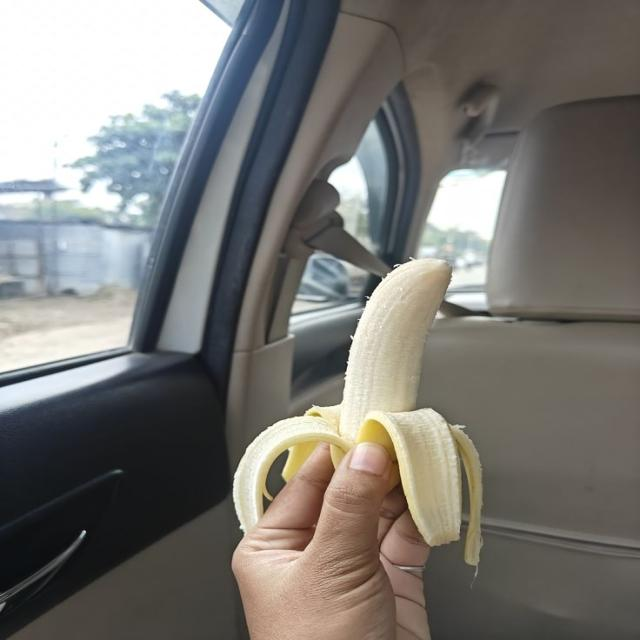banana: (234, 260, 481, 565)
